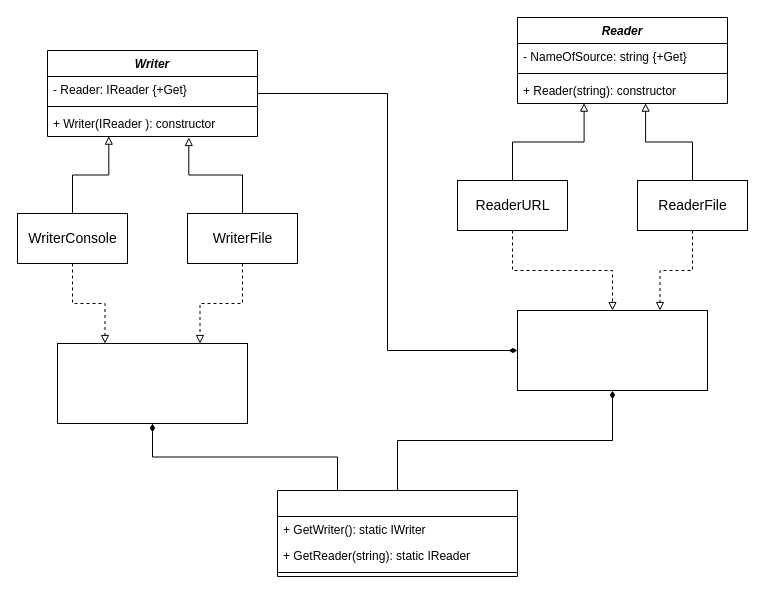
The diagram is 765 pixels wide and 594 high, and some of its shapes have lost their labels. The box of each missing label's shape, as (x1, y1, x2, y2) in pixels:
<<Interface>> IReader + GetRespone(): string: (516, 310, 708, 390)
<<Interface>> IWriter + WriteOutput(): void: (56, 342, 248, 424)
Factory: (276, 490, 518, 576)
